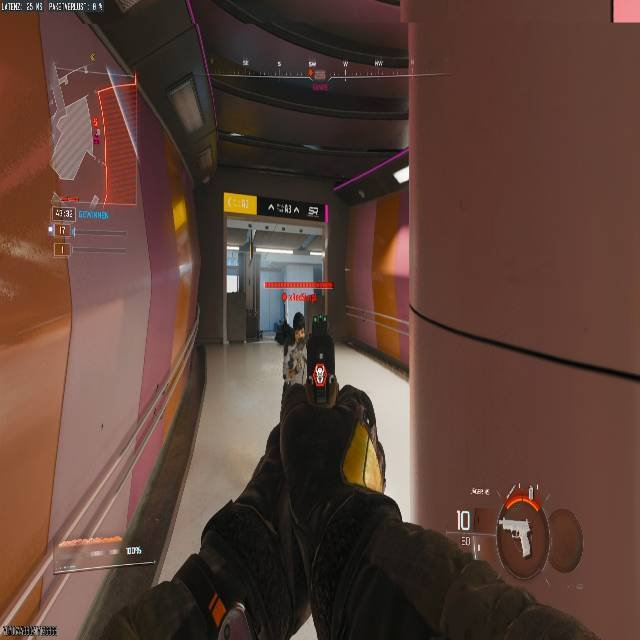head: (292, 311, 304, 329)
player: (278, 308, 307, 381), (273, 318, 291, 356), (292, 312, 305, 344)
